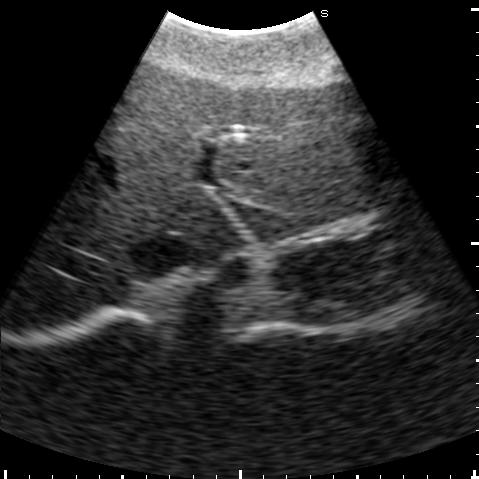IVC: (127, 236, 192, 282)
S1: (172, 194, 247, 269)
S2: (221, 174, 406, 244)
S3: (215, 74, 401, 214)
